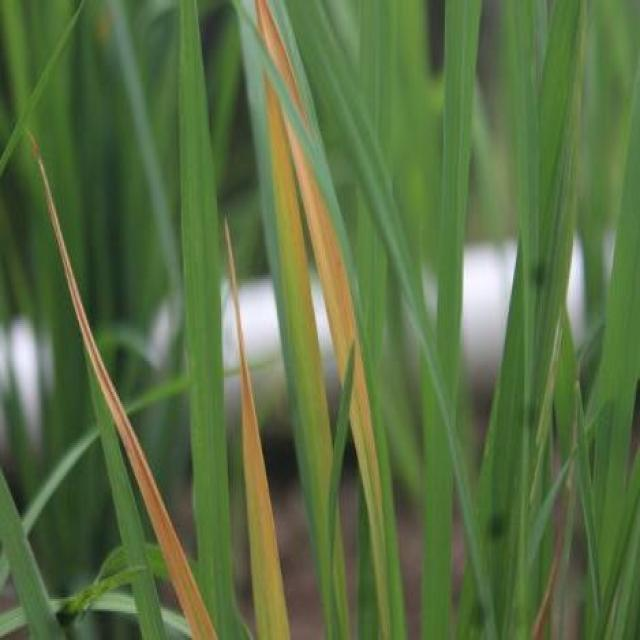Rice Tungro: (221, 229, 277, 554), (99, 342, 154, 500), (39, 157, 83, 343), (307, 186, 357, 347), (158, 499, 196, 610), (258, 12, 300, 110)
